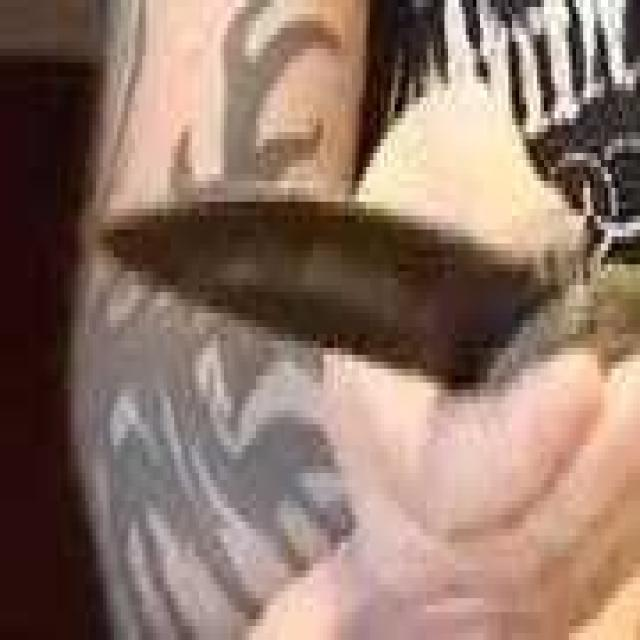Knife: (92, 167, 640, 431)
